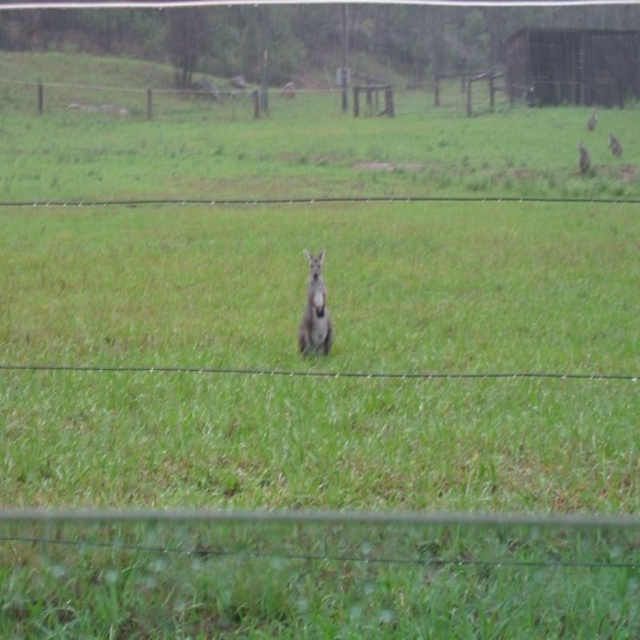Kangaroo: (295, 251, 332, 355)
